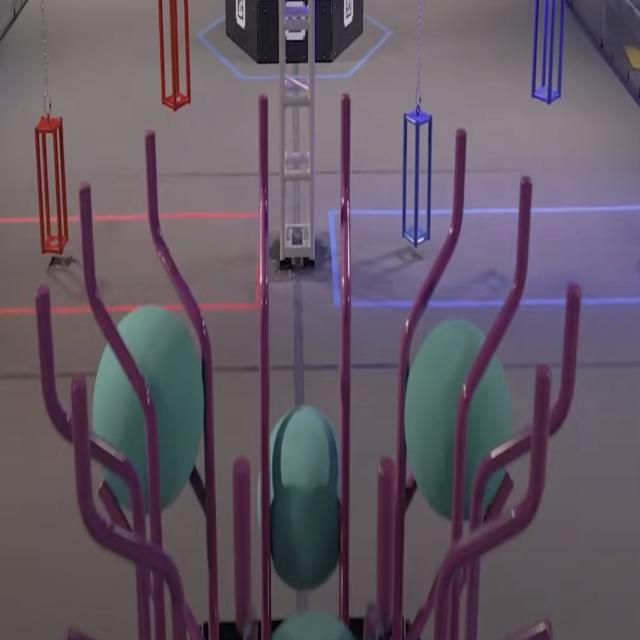Algae: (92, 303, 205, 514), (403, 317, 514, 521), (257, 408, 341, 590), (273, 612, 355, 640)
Reef: (64, 371, 92, 544), (230, 456, 250, 634), (376, 460, 396, 628), (528, 366, 552, 501), (34, 284, 56, 430), (557, 287, 581, 412), (78, 185, 98, 312), (512, 175, 533, 292), (144, 131, 162, 246), (98, 477, 134, 534), (451, 130, 467, 240), (257, 94, 269, 204), (485, 474, 512, 522), (341, 92, 352, 202), (506, 620, 554, 640)
